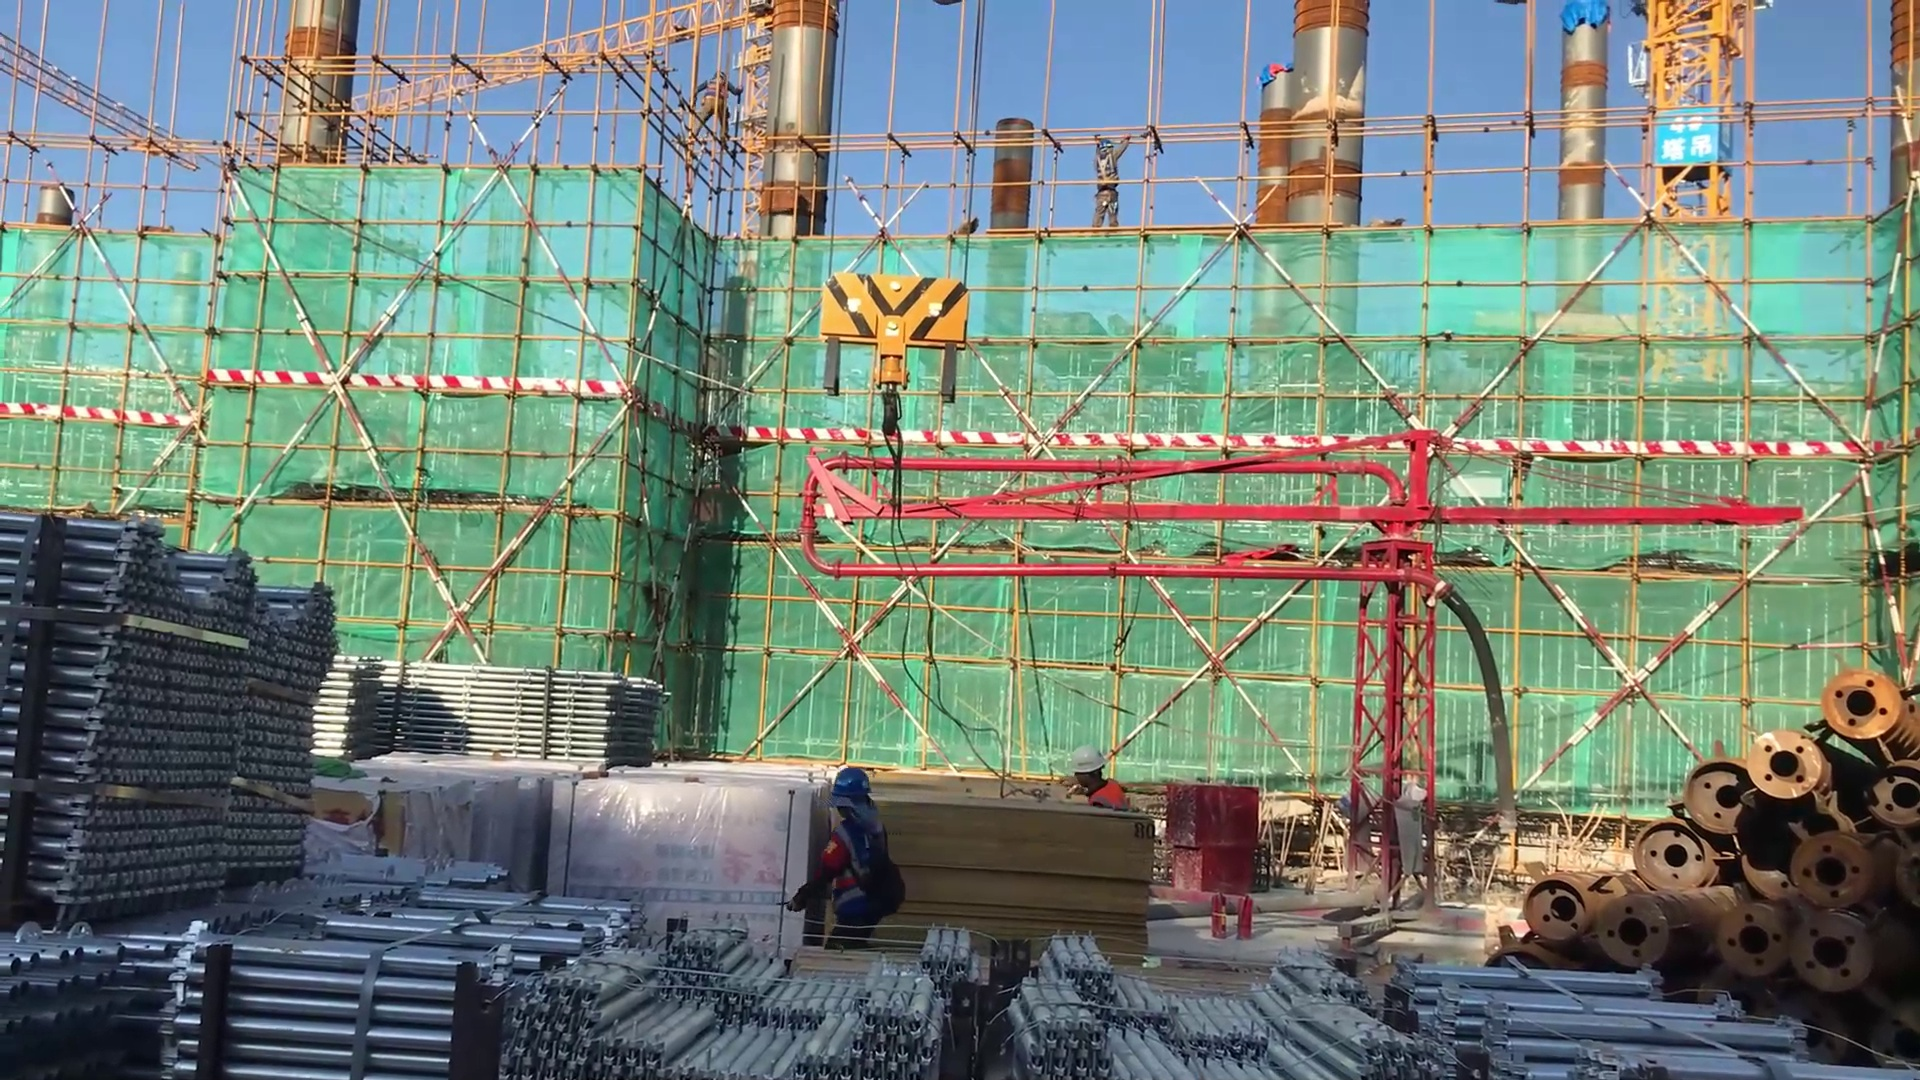board: (876, 791, 1150, 970)
helmet: (831, 764, 873, 801), (1064, 745, 1112, 771), (1093, 133, 1117, 155)
hook: (818, 263, 1006, 459)
person: (784, 761, 911, 953), (1049, 742, 1140, 824), (1086, 135, 1130, 235)
scaffold: (1, 507, 331, 928), (236, 852, 630, 1080), (891, 910, 1413, 1078), (498, 905, 963, 1080), (1404, 957, 1822, 1080), (1, 898, 236, 1077), (309, 657, 665, 769)
slogan: (1656, 113, 1716, 164)
vest: (827, 815, 899, 918), (1081, 776, 1139, 816), (1095, 154, 1123, 188)
